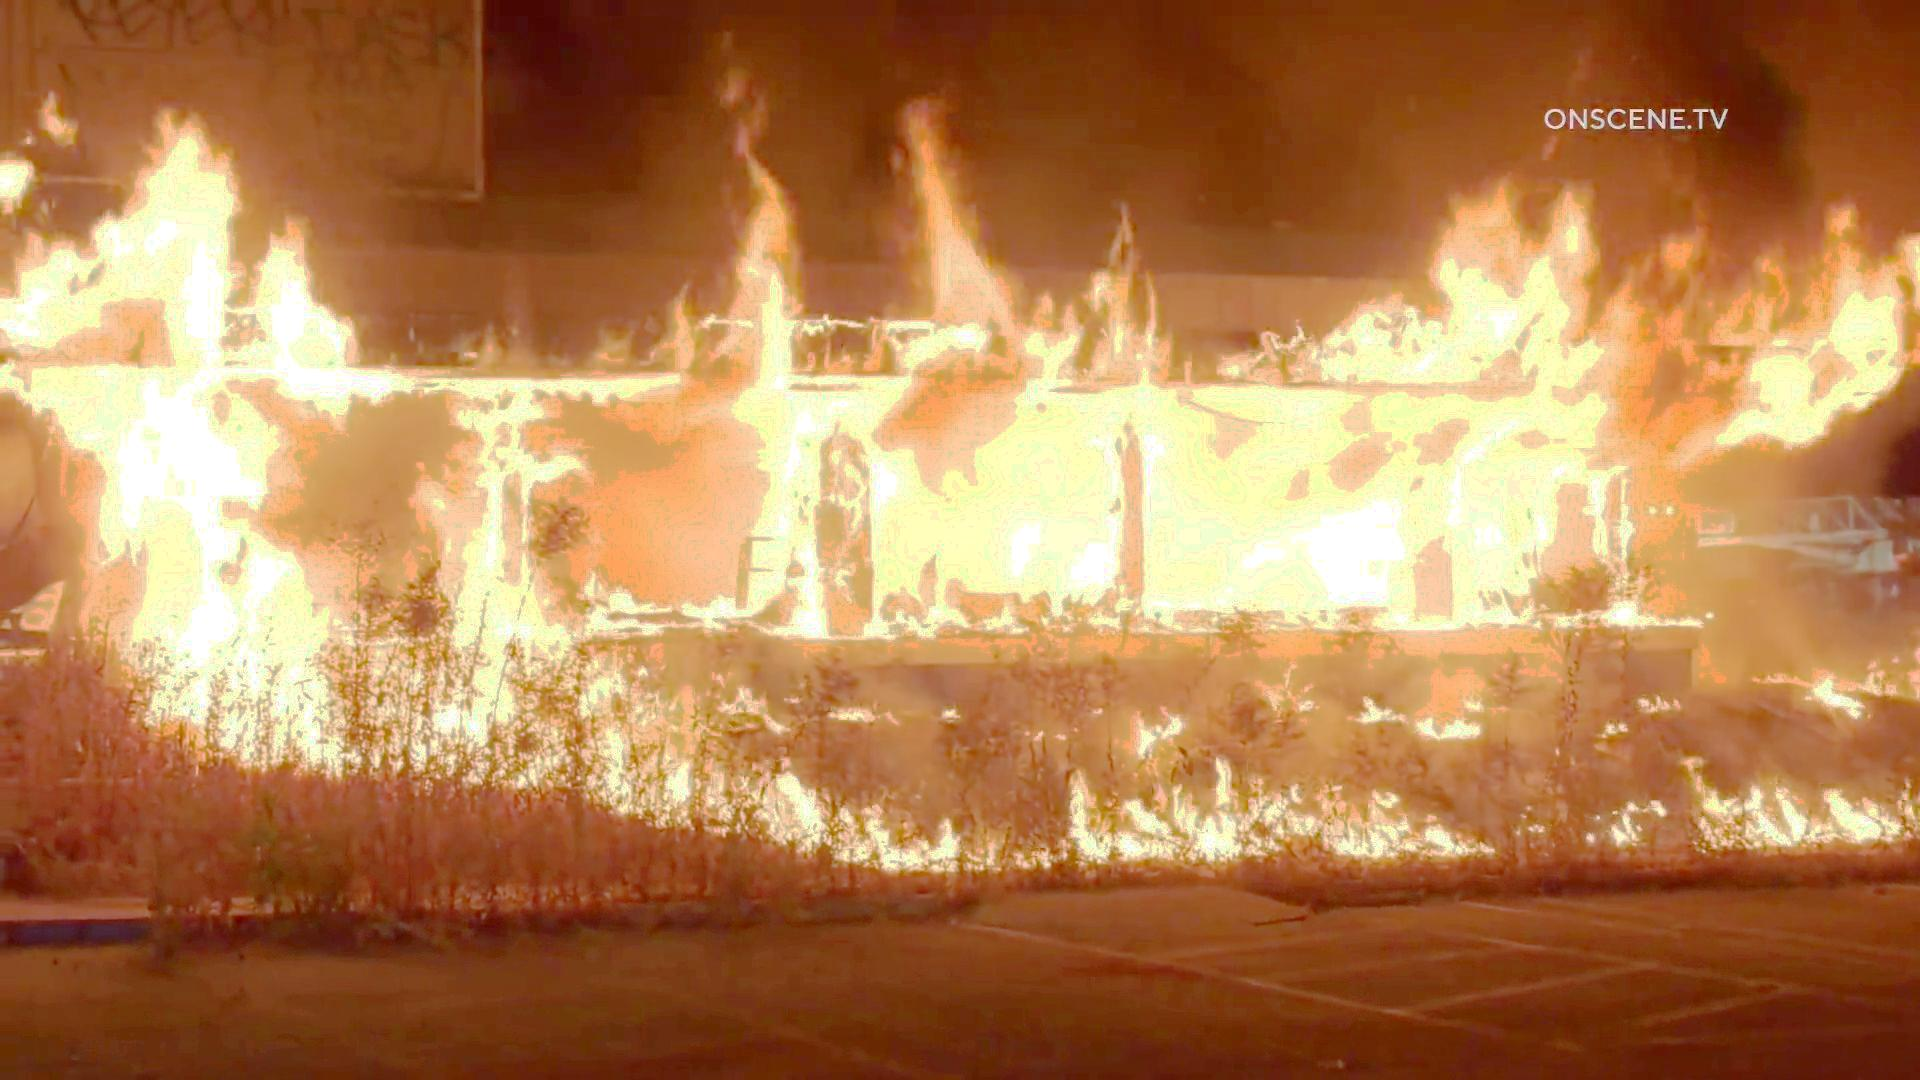fire: (1179, 214, 1916, 622), (477, 103, 815, 716), (20, 94, 320, 742), (835, 128, 1130, 645), (1085, 760, 1920, 868)
